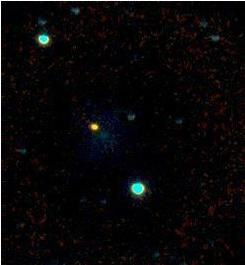star: (78, 112, 108, 142)
